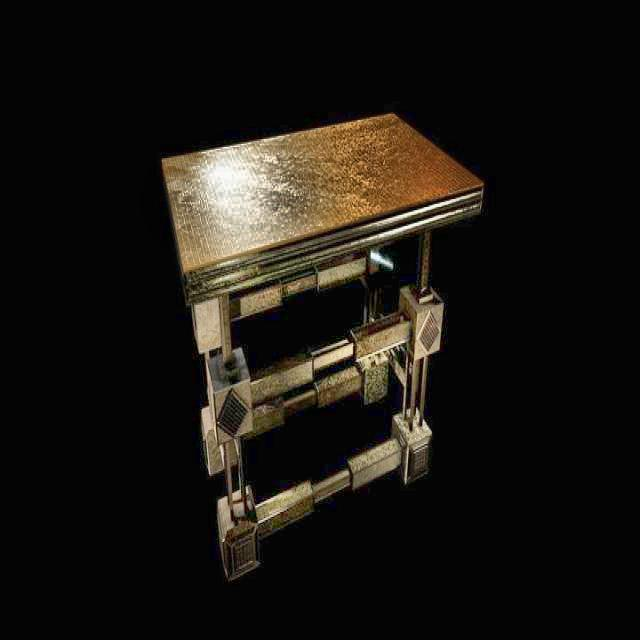mesa: (160, 113, 486, 589)
